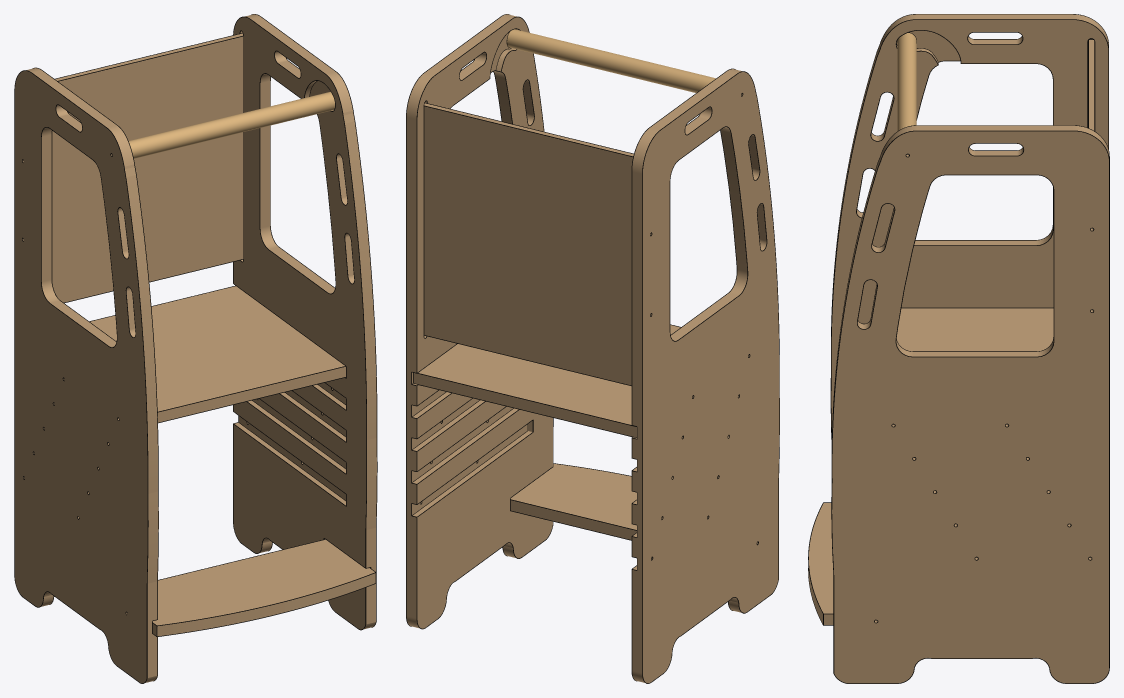
The model's file is modelo-ar.glb.
The picture shows the model from 3 angles, left to right: view 1: azimuth 30°, elevation 25°; view 2: azimuth 150°, elevation 25°; view 3: azimuth 270°, elevation 25°; orthographic projection. The views are drawn at different scales.
Parts seen in each view (by area): view 1: Cuerpo30, Cuerpo29, Cuerpo31, Cuerpo28, Cuerpo32, Cuerpo29_Bordes, Cuerpo30_Bordes, Cuerpo33, Cuerpo32_Bordes, Cuerpo31_Bordes, Cuerpo28_Bordes; view 2: Cuerpo30, Cuerpo31, Cuerpo29, Cuerpo28, Cuerpo32, Cuerpo29_Bordes, Cuerpo30_Bordes, Cuerpo33, Cuerpo31_Bordes, Cuerpo28_Bordes; view 3: Cuerpo29, Cuerpo30, Cuerpo28, Cuerpo29_Bordes, Cuerpo30_Bordes, Cuerpo32, Cuerpo33, Cuerpo31.
Boxes of the visible parts, x1,y1,x2,y2 form: Cuerpo30: [15, 68, 158, 683]; Cuerpo29: [233, 14, 376, 629]; Cuerpo31: [52, 33, 243, 302]; Cuerpo28: [90, 286, 345, 422]; Cuerpo32: [152, 539, 375, 636]; Cuerpo29_Bordes: [233, 14, 377, 630]; Cuerpo30_Bordes: [14, 67, 158, 683]; Cuerpo33: [128, 91, 334, 158]; Cuerpo32_Bordes: [152, 539, 376, 636]; Cuerpo31_Bordes: [55, 33, 243, 303]; Cuerpo28_Bordes: [89, 285, 345, 423]; Cuerpo30: [632, 69, 779, 683]; Cuerpo31: [424, 103, 633, 385]; Cuerpo29: [406, 14, 552, 628]; Cuerpo28: [413, 325, 680, 437]; Cuerpo32: [510, 463, 636, 539]; Cuerpo29_Bordes: [406, 14, 553, 629]; Cuerpo30_Bordes: [631, 68, 779, 683]; Cuerpo33: [507, 29, 715, 92]; Cuerpo31_Bordes: [424, 103, 633, 385]; Cuerpo28_Bordes: [413, 324, 680, 437]; Cuerpo29: [832, 125, 1109, 683]; Cuerpo30: [831, 14, 1108, 428]; Cuerpo28: [896, 308, 1053, 351]; Cuerpo29_Bordes: [831, 125, 1109, 683]; Cuerpo30_Bordes: [830, 14, 1108, 442]; Cuerpo32: [808, 503, 833, 624]; Cuerpo33: [897, 33, 916, 131]; Cuerpo31: [1089, 40, 1094, 130].
Size of the model in its own units: 0.399 by 0.8811 by 0.4353.
